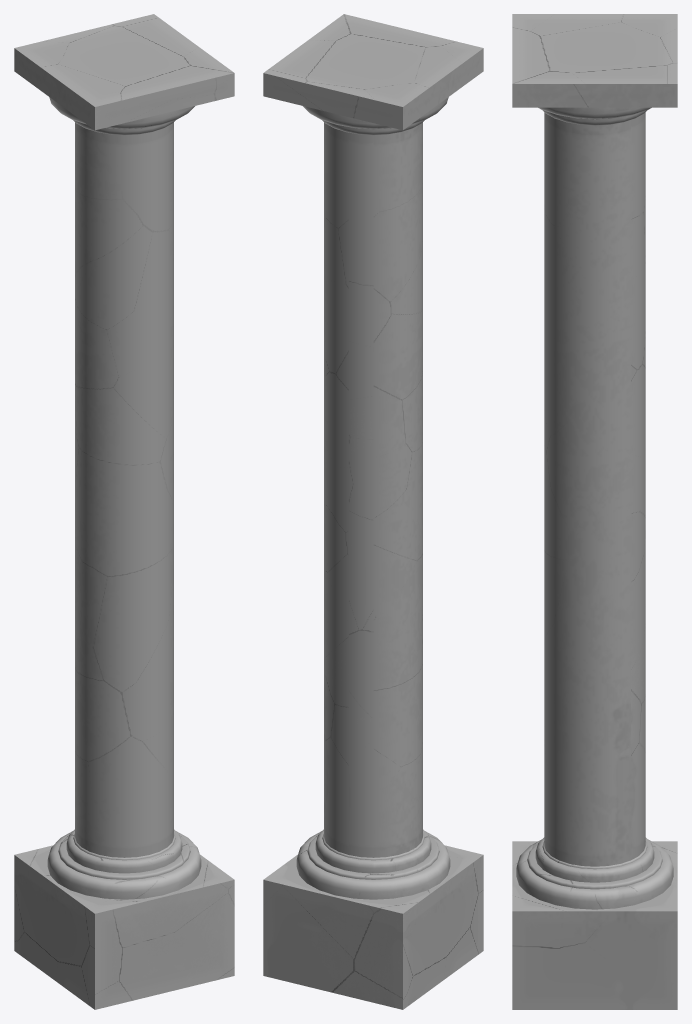
File: Pillar_B.fbx
The picture shows the model from 3 angles, left to right: view 1: azimuth 30°, elevation 25°; view 2: azimuth 150°, elevation 25°; view 3: azimuth 270°, elevation 25°; orthographic projection. The views are drawn at different scales.
Visible parts, largest first — view 1: Pillar_B.001; view 2: Pillar_B.001; view 3: Pillar_B.001.
Boxes of the visible parts, box(x1,y1,x2,y2) form: Pillar_B.001: box(14, 14, 234, 1009); Pillar_B.001: box(263, 14, 483, 1009); Pillar_B.001: box(512, 14, 677, 1009).
Bounding box in the file's own units: 0.6477 × 0.6478 × 4.
1 material, 1 textured.
